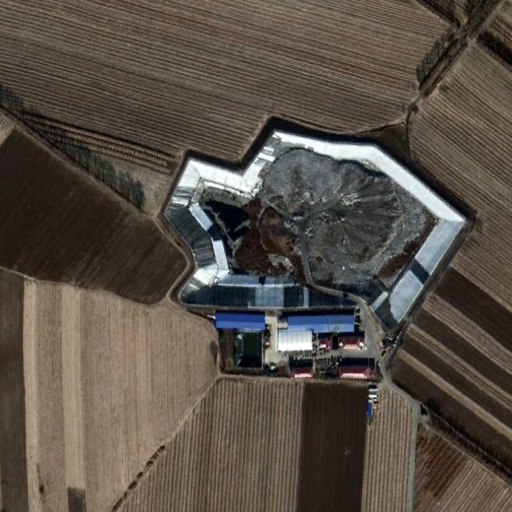lf: (141, 120, 467, 333)
